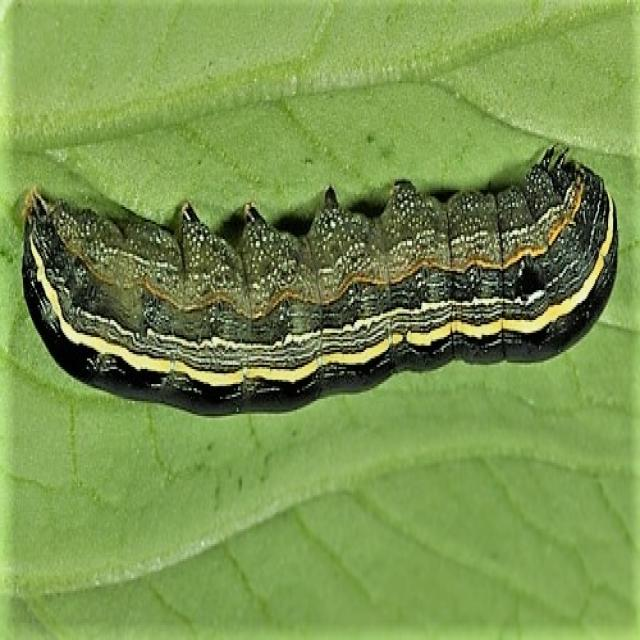armyworm: (19, 138, 618, 410)
